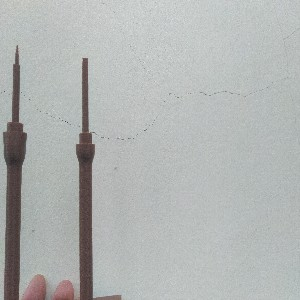obeng: (75, 57, 96, 300)
solder: (2, 43, 28, 300)
